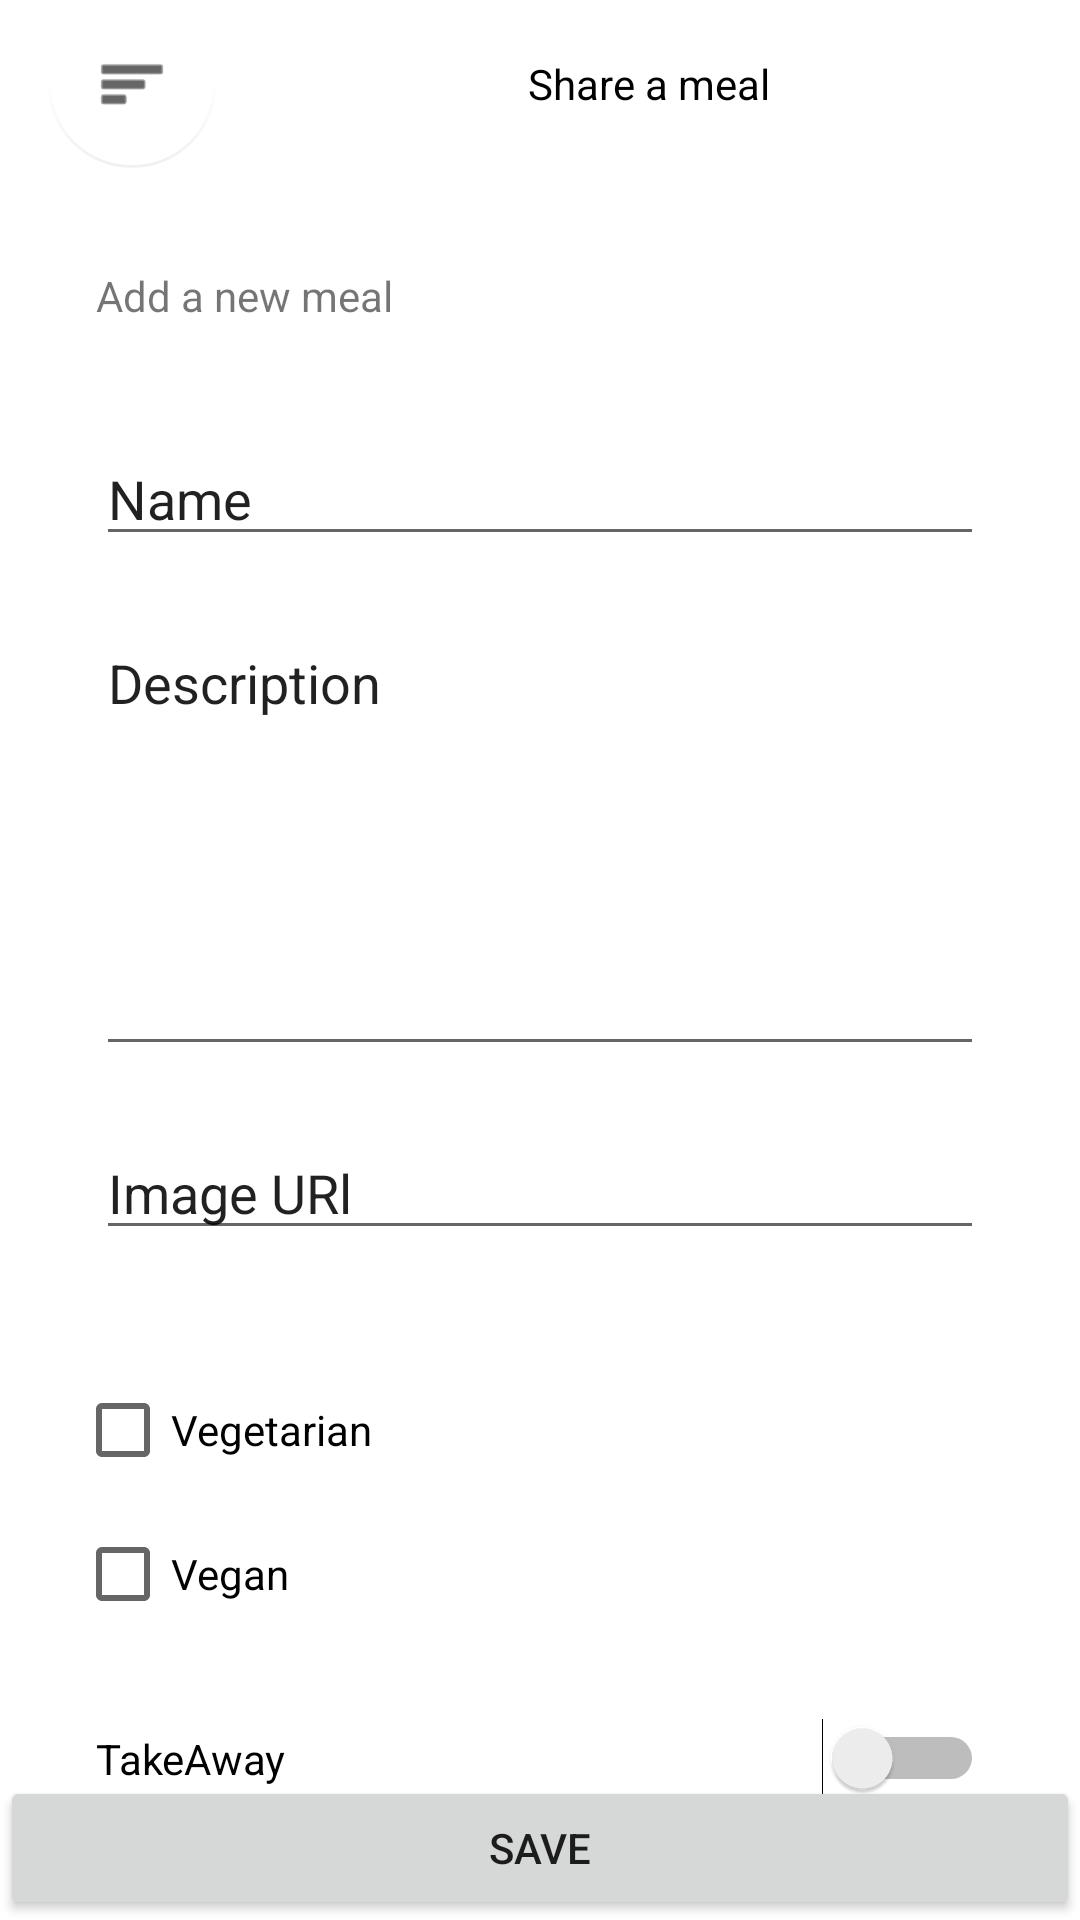

Point at icon controls on the screen. Image size 1080*1920, points as point (x, y).
Menubutton: point (132, 84)
